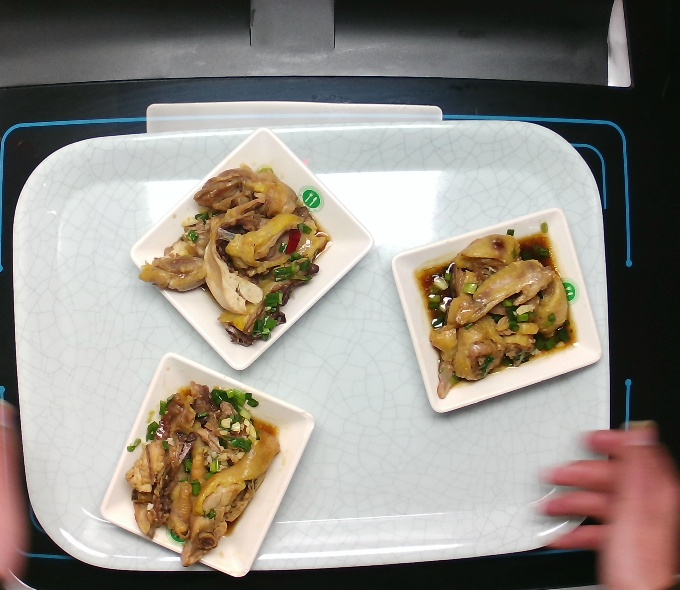wcq-CongYouJi: (136, 160, 336, 350), (122, 380, 286, 574), (413, 218, 583, 403)
